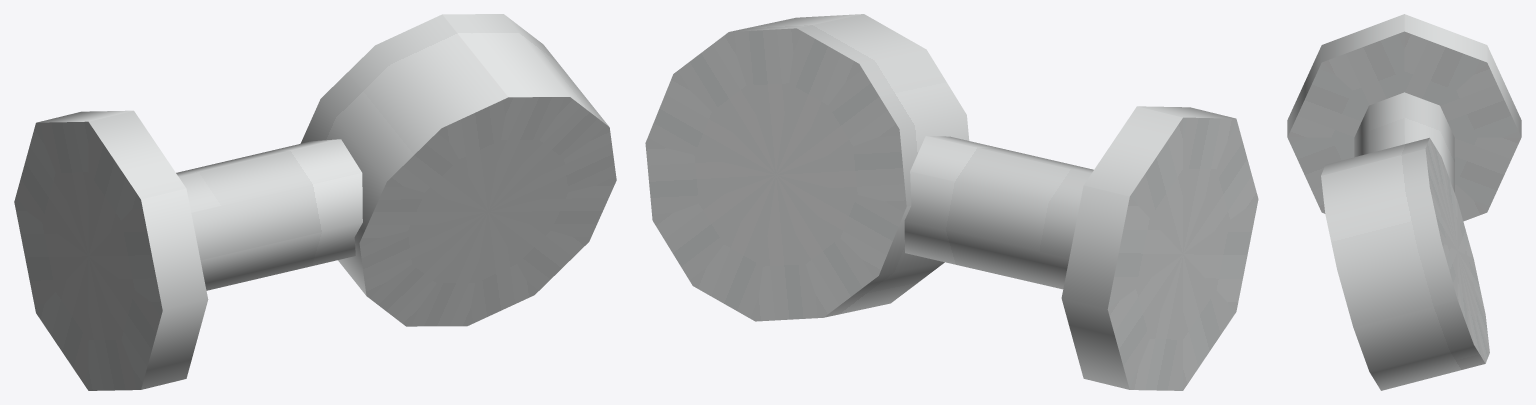
File: trusssignalarm_stub_57.obj
The picture shows the model from 3 angles, left to right: view 1: azimuth 30°, elevation 25°; view 2: azimuth 150°, elevation 25°; view 3: azimuth 270°, elevation 25°; orthographic projection. The views are drawn at different scales.
Visible parts, largest first — view 1: trusssignalarm_stub_57; view 2: trusssignalarm_stub_57; view 3: trusssignalarm_stub_57.
Boxes of the visible parts, box(x1,y1,x2,y2) form: trusssignalarm_stub_57: box(14, 14, 616, 390); trusssignalarm_stub_57: box(645, 14, 1258, 390); trusssignalarm_stub_57: box(1287, 14, 1521, 390).
Bounding box in the file's own units: 0.6744 × 0.3812 × 0.35.
